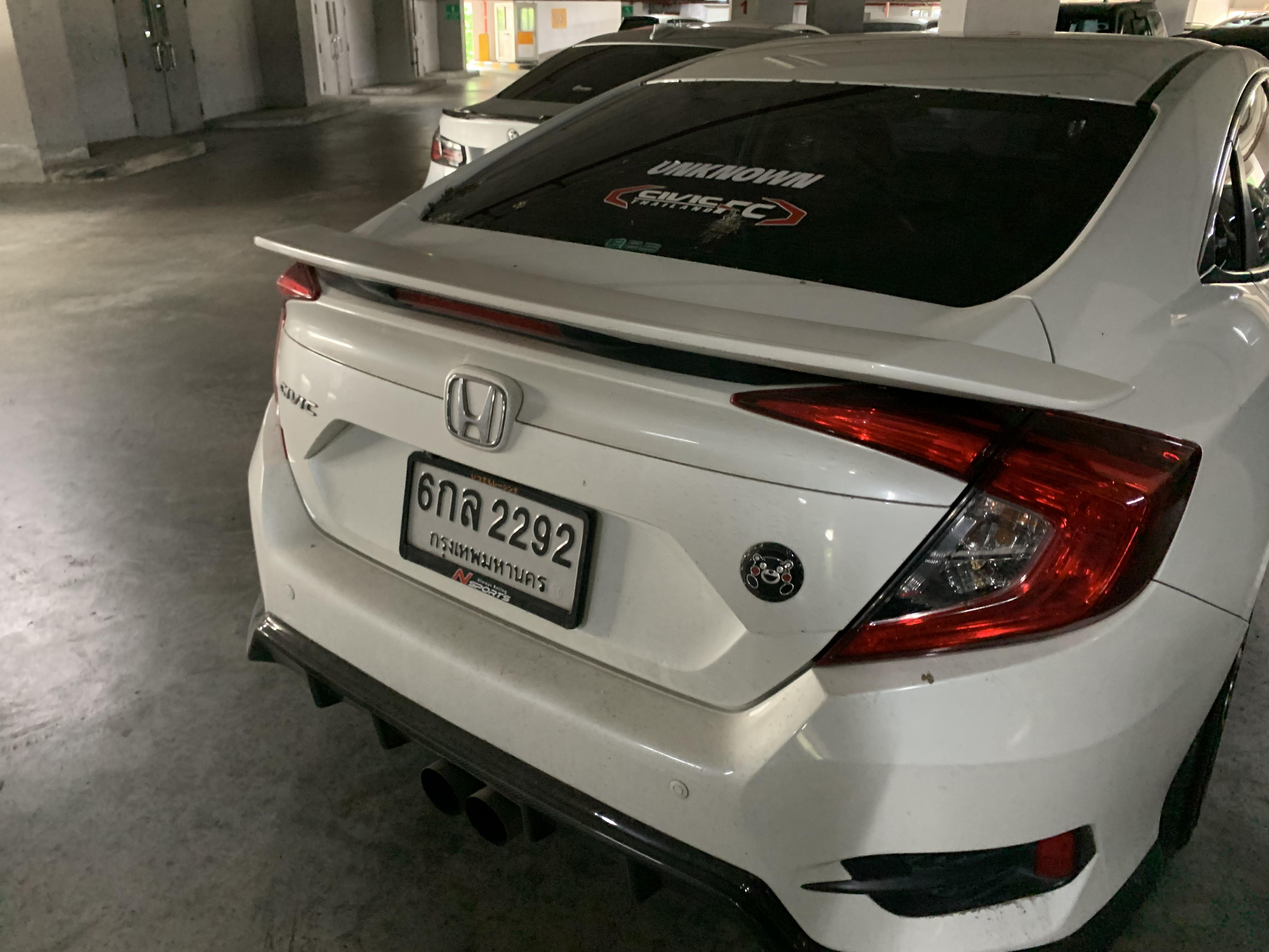license-plate: (399, 442, 600, 630)
